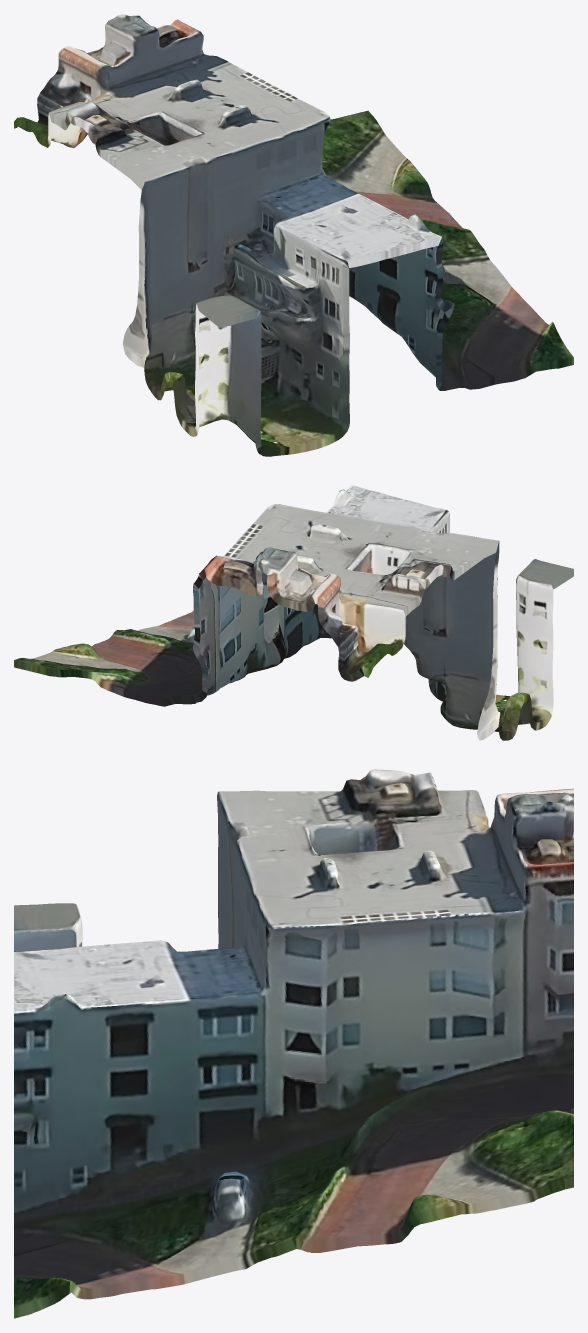
File: z20-167718-405196-h0-yup-uvflip-v3-world.glb
The picture shows the model from 3 angles, top to bottom: view 1: azimuth 30°, elevation 25°; view 2: azimuth 150°, elevation 25°; view 3: azimuth 270°, elevation 25°; orthographic projection. The views are drawn at different scales.
Size of the model in its own units: 30.16 by 23.2 by 30.32.
Materials: 1 (1 with a texture image).
